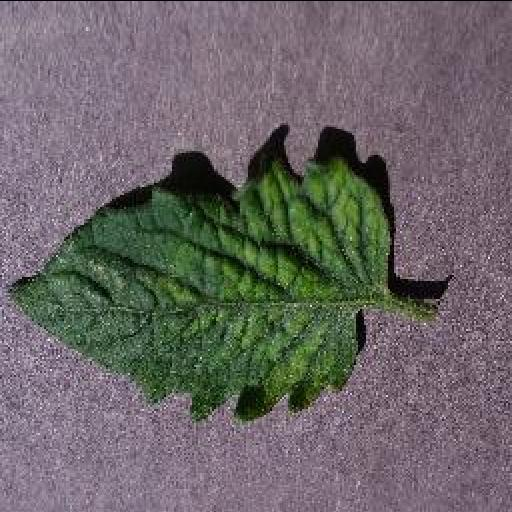disease_tomato: (2, 154, 394, 428)
